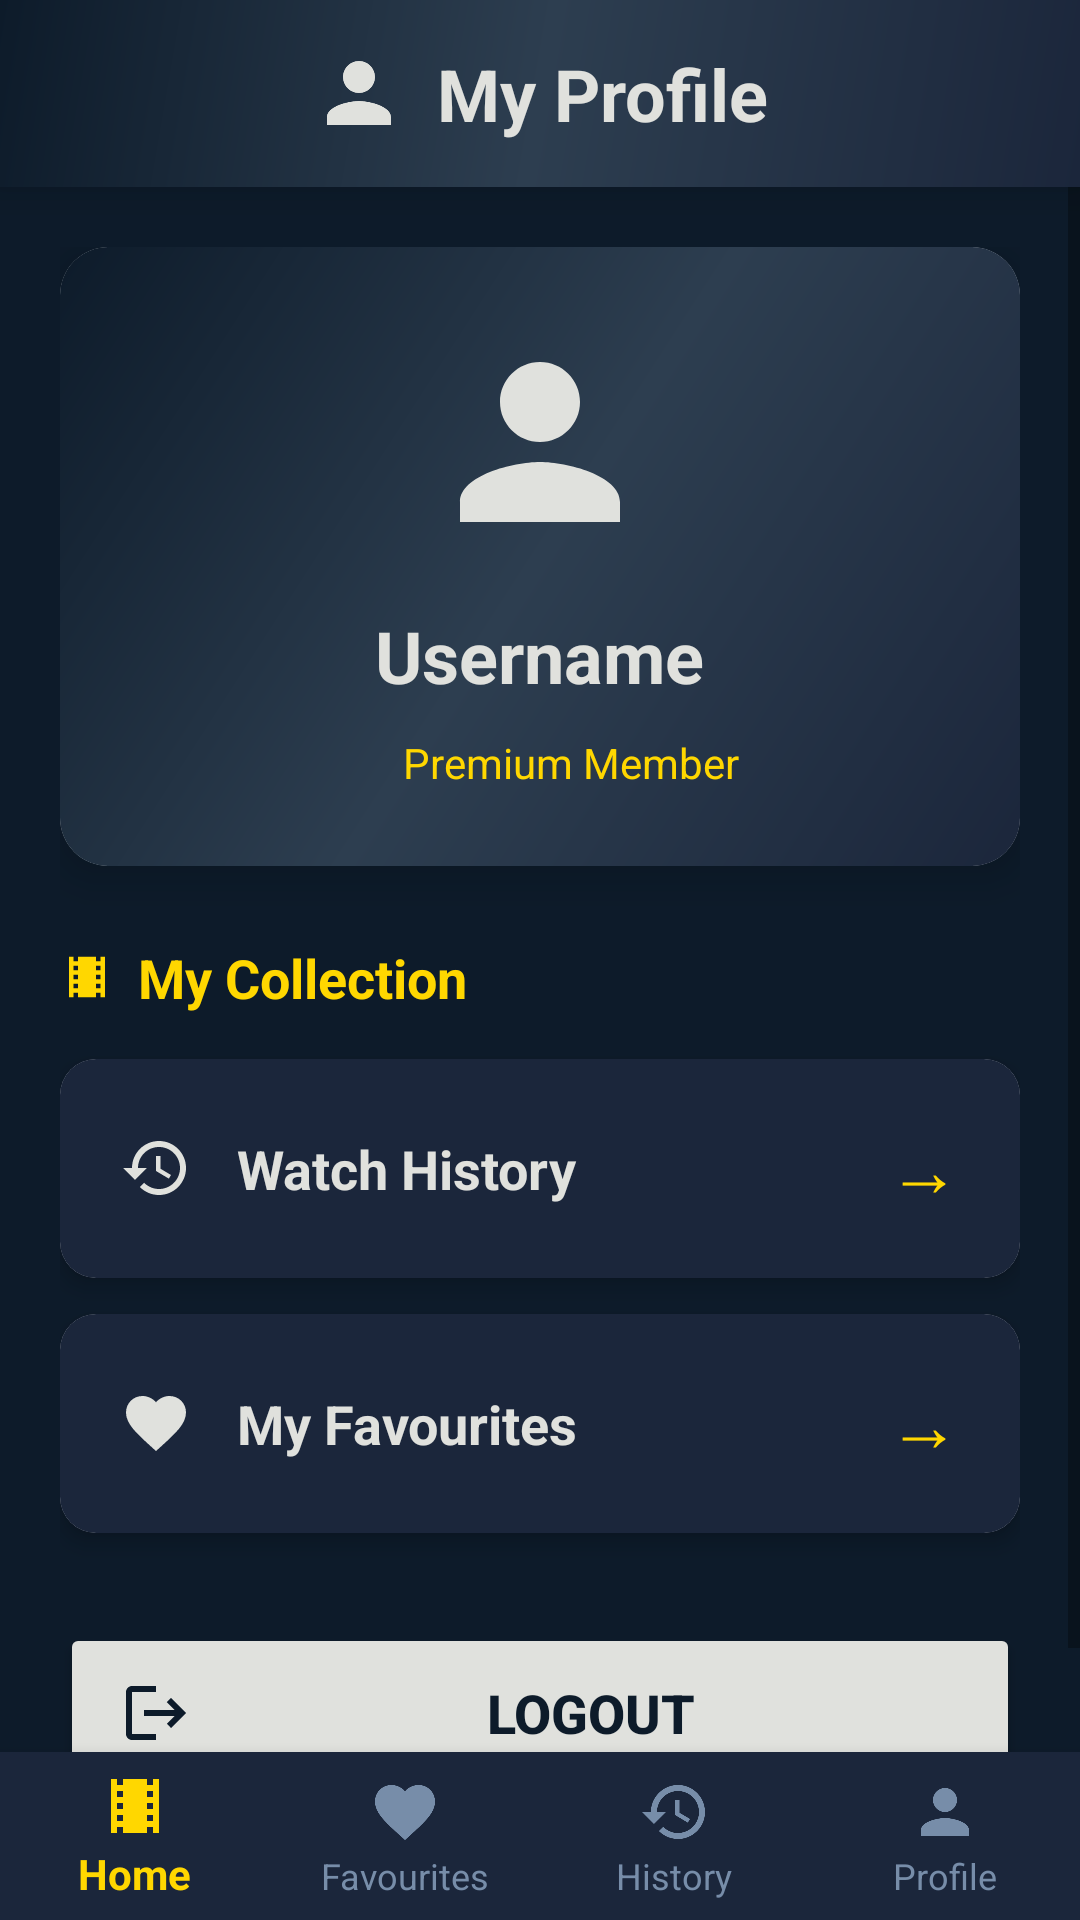

Icon bounding boxes for this 1080w x 1920h phone screenshot, format (left=x1, top=y1, right=x2, bottom=y2):
favorite: (left=126, top=1396, right=186, bottom=1451)
movie: (left=69, top=956, right=105, bottom=998)
person: (left=327, top=61, right=391, bottom=125), (left=460, top=362, right=620, bottom=522)
